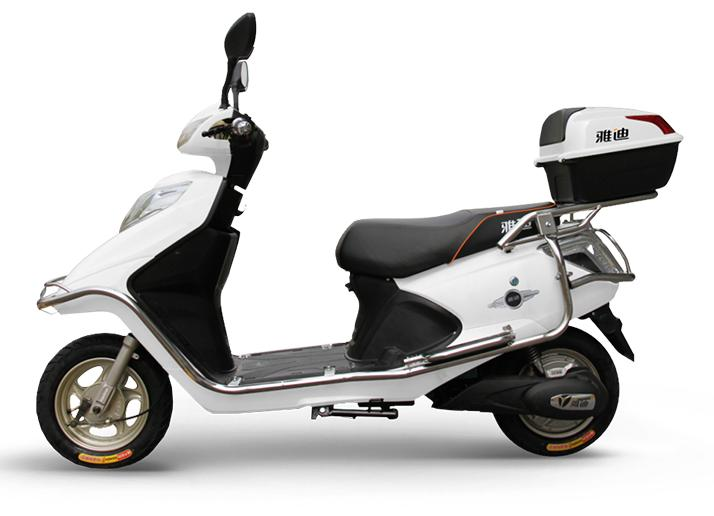电动车: (30, 5, 682, 466)
